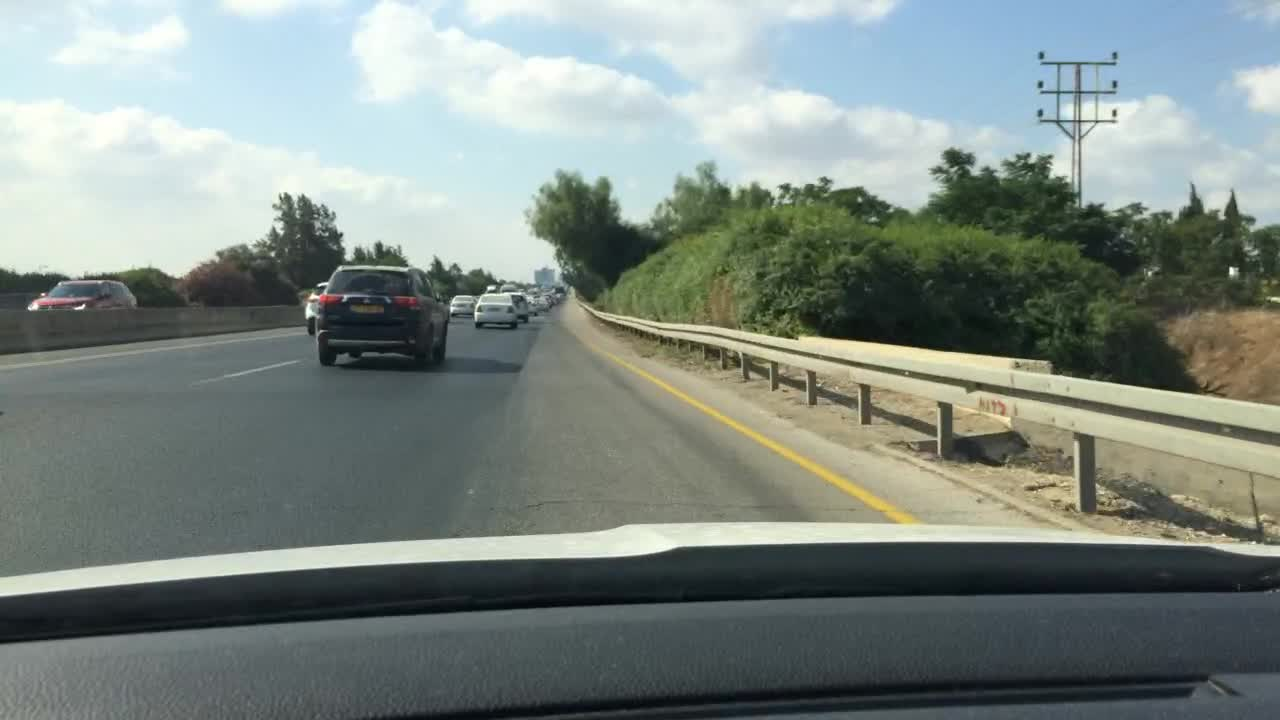car: (314, 261, 448, 366), (28, 277, 138, 310), (470, 295, 519, 331), (305, 282, 329, 335), (510, 292, 529, 323), (449, 295, 473, 317), (535, 296, 550, 313), (528, 296, 537, 319), (540, 286, 555, 299), (498, 282, 515, 293), (553, 285, 568, 296), (483, 285, 498, 295), (472, 293, 485, 302), (527, 286, 538, 296)
